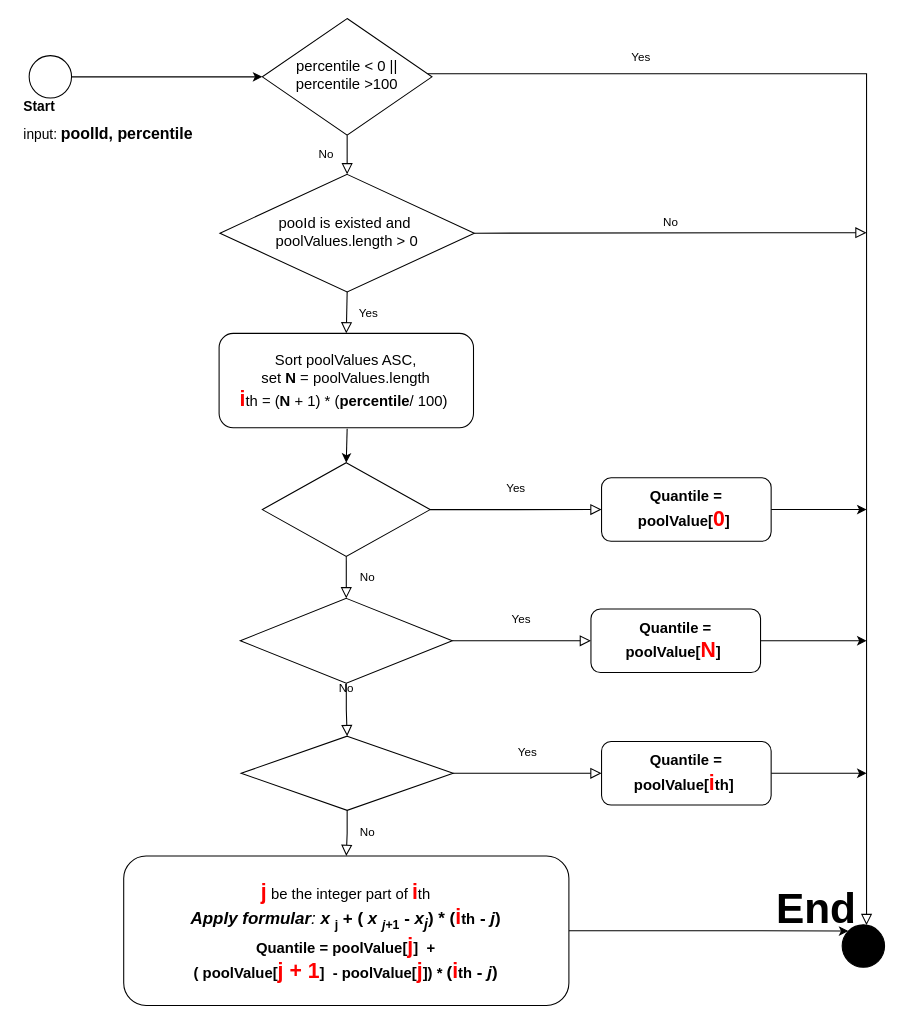
This 903x1024 diagram has some shape labels left out. The shapes that lost their labels are listed below. From the top down, each one's centre as x and y in pixels, then its label:
At point 345,509: "i th < 1".
At point 345,640: "i th >= N".
At point 346,772: "i th is an Integer".
